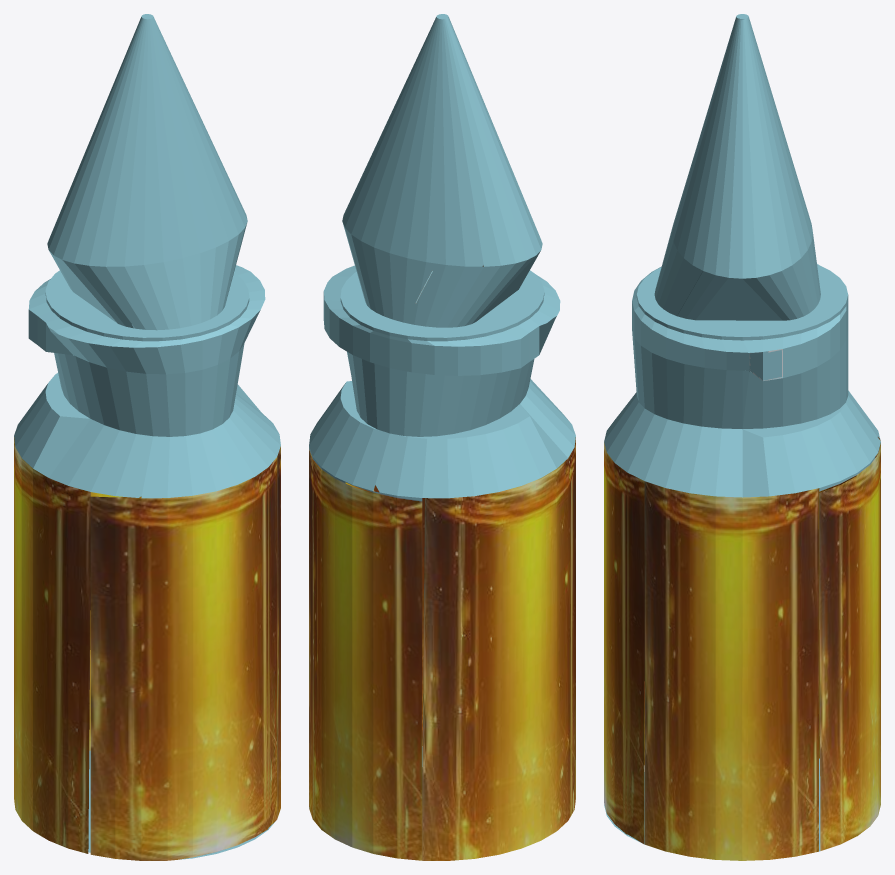
The model's file is Frasco2.fbx.
The picture shows the model from 3 angles, left to right: view 1: azimuth 30°, elevation 25°; view 2: azimuth 150°, elevation 25°; view 3: azimuth 270°, elevation 25°; orthographic projection.
Visible parts, largest first — view 1: Cylinder; view 2: Cylinder; view 3: Cylinder.
Part boxes in pixels (x1,y1,x2,y2): Cylinder: (14, 14, 280, 860); Cylinder: (309, 14, 575, 860); Cylinder: (604, 14, 880, 860).
Size of the model in its own units: 353 by 1161 by 369.
1 material, 1 textured.
